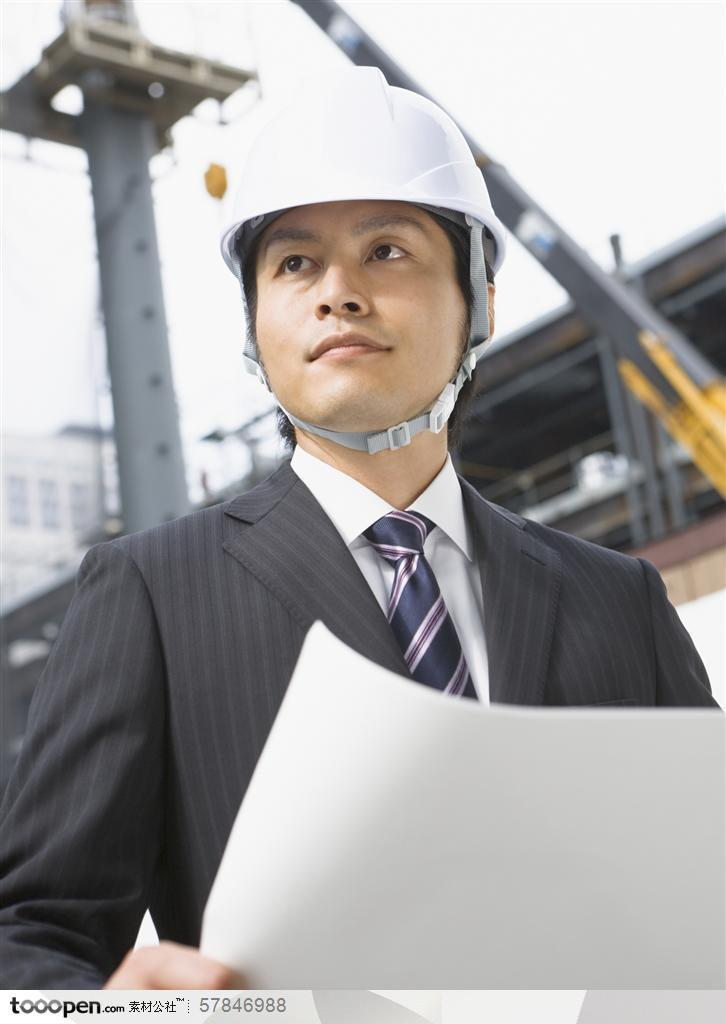helmet: (210, 63, 509, 283)
